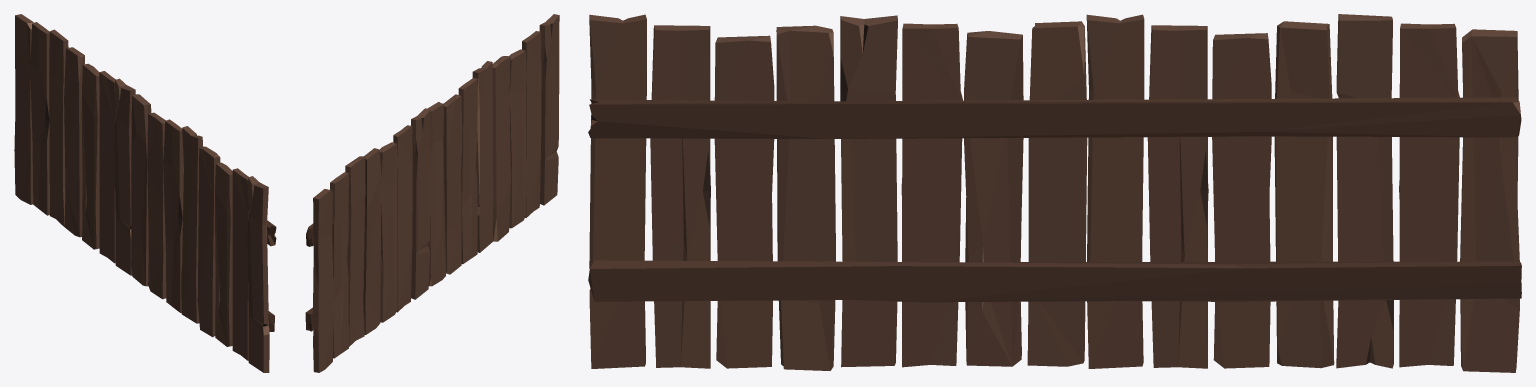
The model's file is FenceWoodLarge_01.glb.
The picture shows the model from 3 angles, left to right: view 1: azimuth 30°, elevation 25°; view 2: azimuth 150°, elevation 25°; view 3: azimuth 270°, elevation 25°; orthographic projection. The views are drawn at different scales.
Visible parts, largest first — view 1: FenceWoodLarge_01; view 2: FenceWoodLarge_01; view 3: FenceWoodLarge_01.
Part boxes in pixels (x1,y1,x2,y2): FenceWoodLarge_01: (14, 14, 276, 372); FenceWoodLarge_01: (305, 14, 559, 372); FenceWoodLarge_01: (588, 14, 1521, 372).
Size of what is drawn, in the model's own units: 0.169 by 2.1 by 5.
1 material, 1 textured.
